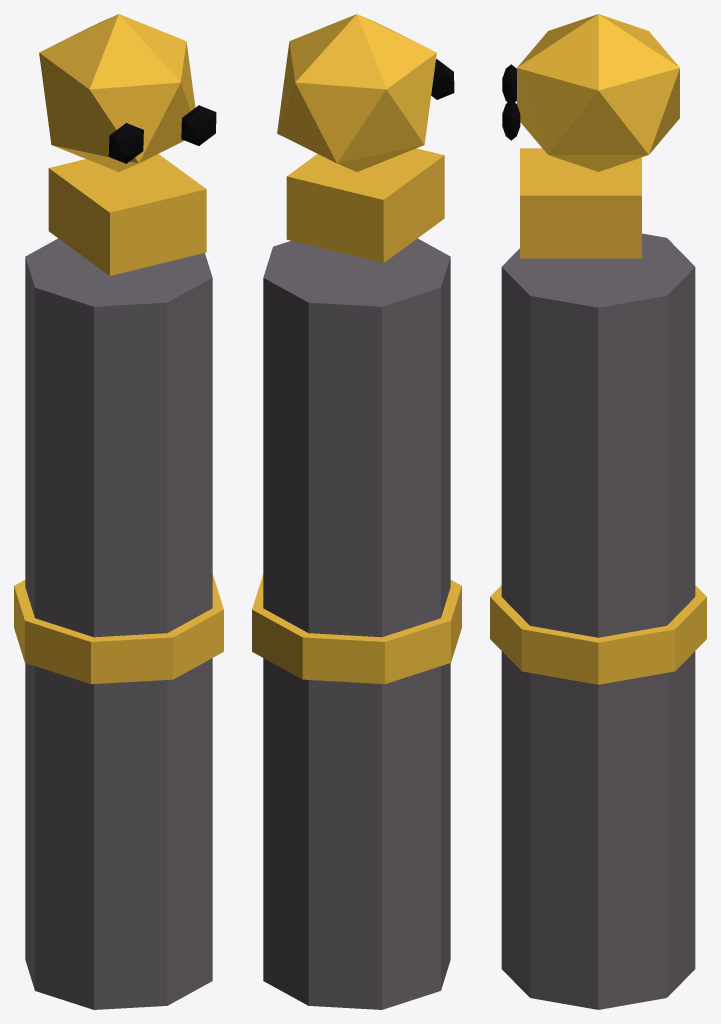
The model's file is Prop_OR_SkullTotem_10.glb.
3 renders of one model, left to right at view 1: azimuth 30°, elevation 25°; view 2: azimuth 150°, elevation 25°; view 3: azimuth 270°, elevation 25°, orthographic.
Parts seen in each view (by area): view 1: Prop_OR_SkullTotem_10; view 2: Prop_OR_SkullTotem_10; view 3: Prop_OR_SkullTotem_10.
Boxes of the visible parts, box(x1,y1,x2,y2) form: Prop_OR_SkullTotem_10: box(14, 14, 223, 1009); Prop_OR_SkullTotem_10: box(252, 14, 461, 1009); Prop_OR_SkullTotem_10: box(490, 14, 706, 1009).
Bounding box in the file's own units: 0.56 × 2.72 × 0.56.
